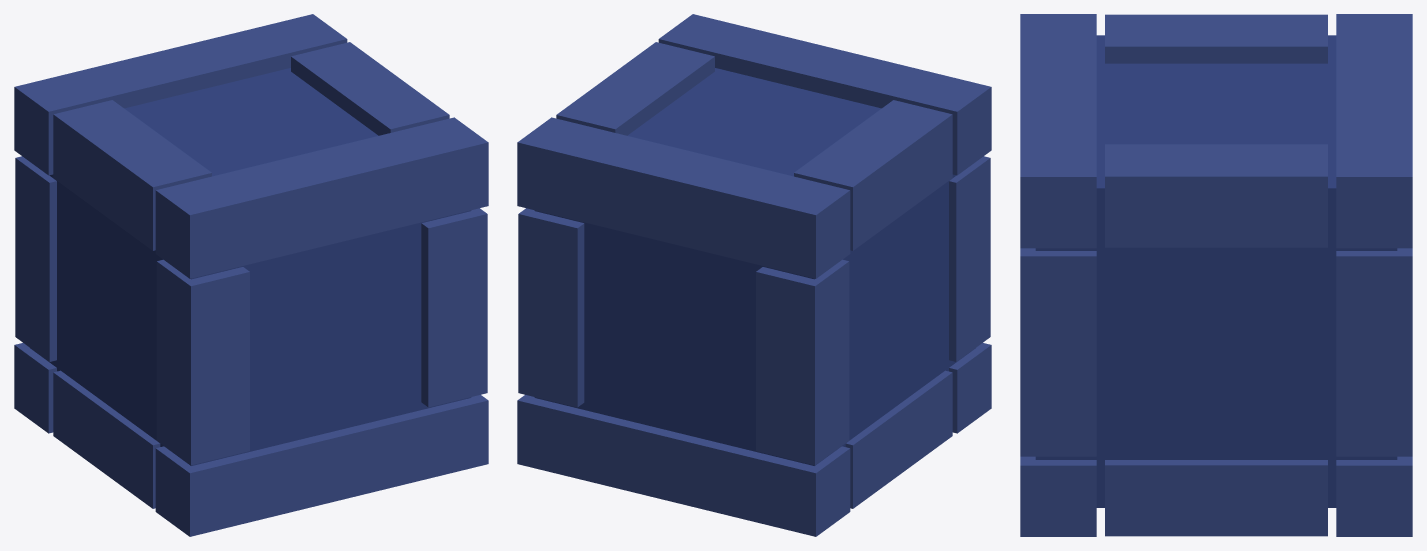
The model's file is SM_Prop_Crate_01.fbx.
The picture shows the model from 3 angles, left to right: view 1: azimuth 30°, elevation 25°; view 2: azimuth 150°, elevation 25°; view 3: azimuth 270°, elevation 25°; orthographic projection. The views are drawn at different scales.
Parts seen in each view (by area): view 1: SM_Prop_Crate_01; view 2: SM_Prop_Crate_01; view 3: SM_Prop_Crate_01.
Part boxes in pixels (left/top/right/bottom): SM_Prop_Crate_01: left=14, top=14, right=488, bottom=536; SM_Prop_Crate_01: left=517, top=14, right=991, bottom=536; SM_Prop_Crate_01: left=1020, top=14, right=1412, bottom=536.
Bounding box in the file's own units: 98.19 × 101 × 99.9.
